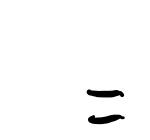eqv: (87, 89, 125, 124)
